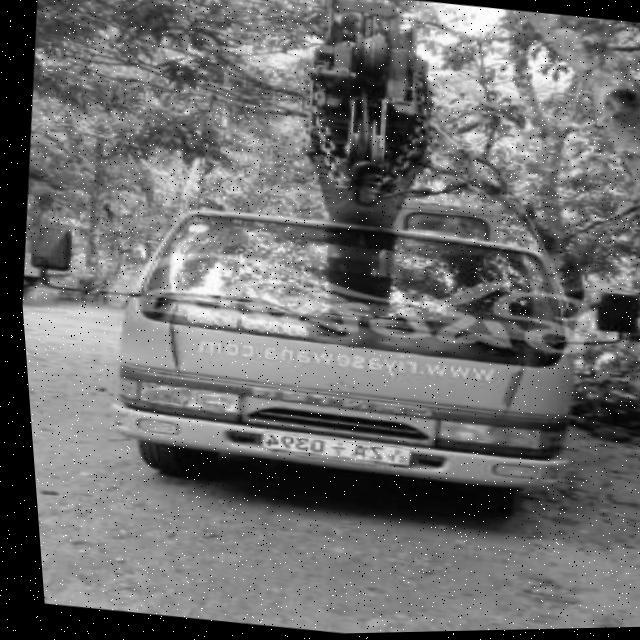truck: (10, 138, 640, 545)
